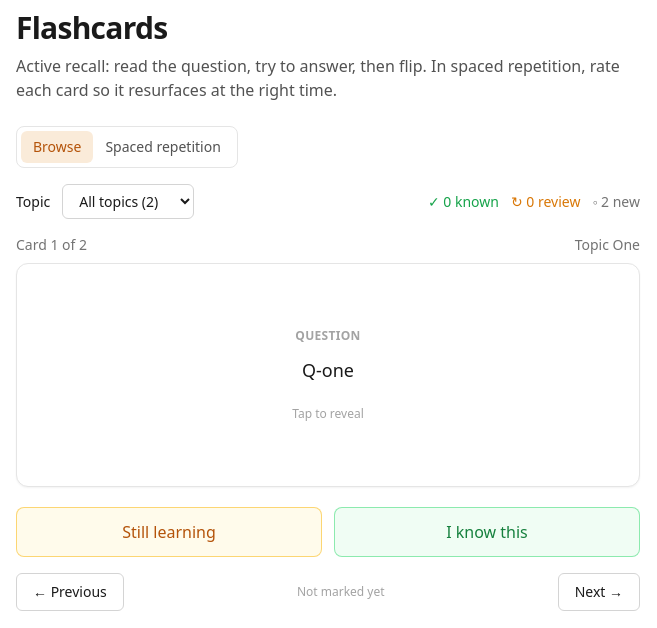
Test: FlashcardDeck › shows the question, then flips to the answer
The width and height of the screenshot is (657, 628).
expect the text "Q-one" is shown: met, box [302,356,354,386]
expect the text "A-one" is not shown: met
Click the button with aria-label "reveal answer" at (328, 375), box [16,263,640,487]
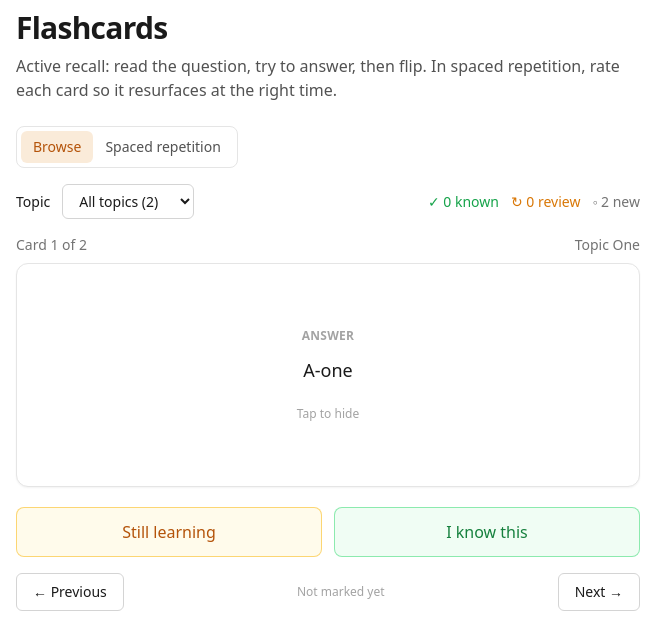
expect the text "A-one" is shown: met, box [303,356,353,386]
